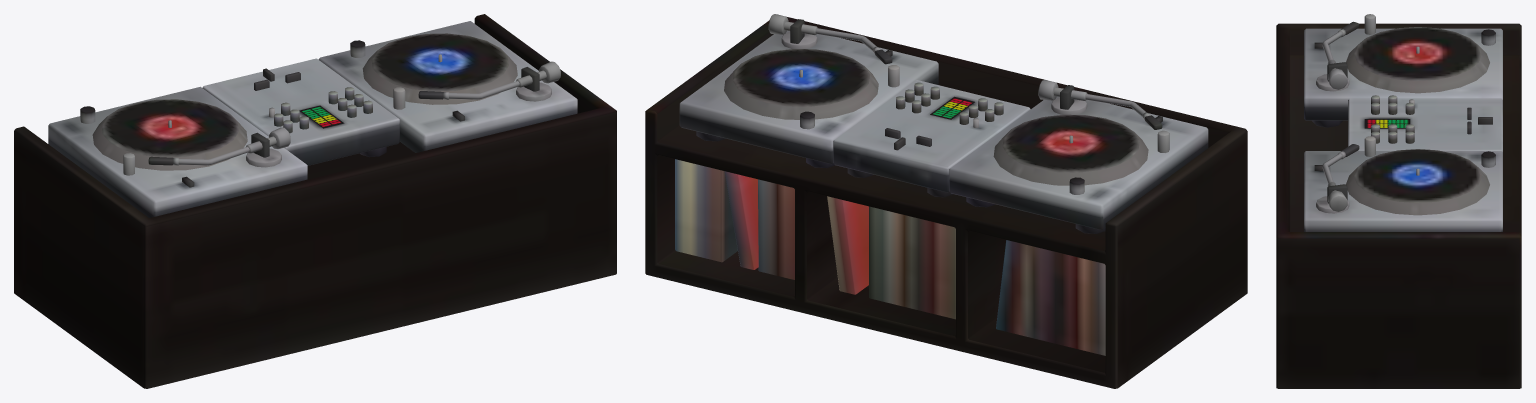
The picture shows the model from 3 angles, left to right: view 1: azimuth 30°, elevation 25°; view 2: azimuth 150°, elevation 25°; view 3: azimuth 270°, elevation 25°; orthographic projection. The views are drawn at different scales.
Bounding box in the file's own units: 18.73 × 7.38 × 9.09.
2 materials, 2 textured.
